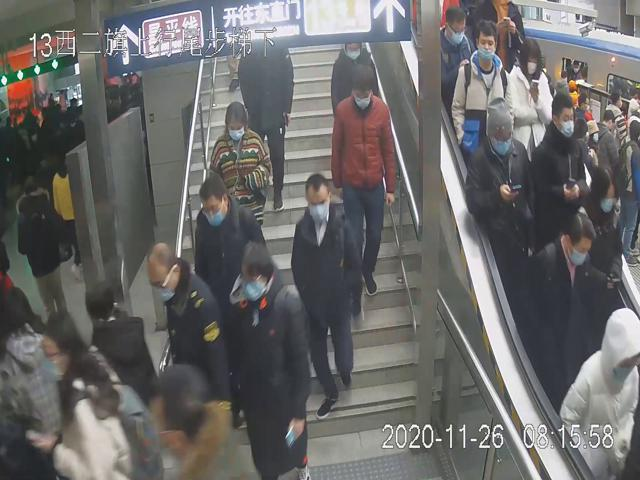person: (223, 237, 313, 480), (290, 172, 362, 421), (329, 63, 395, 300), (146, 240, 222, 398), (187, 172, 269, 298), (530, 90, 589, 238), (211, 100, 273, 235), (451, 17, 507, 150), (332, 40, 380, 105)
